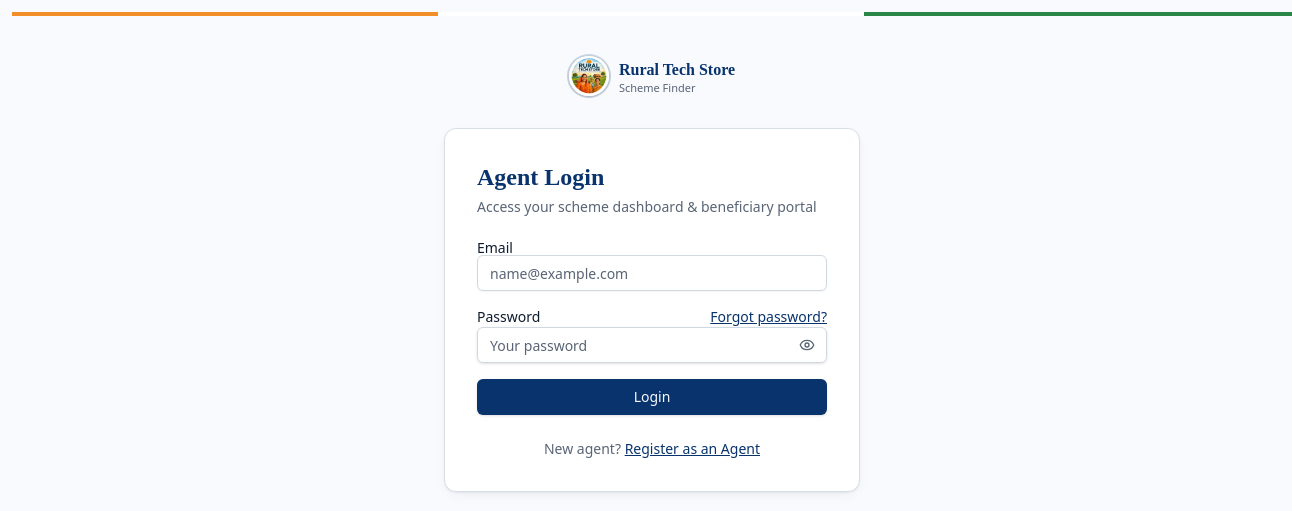
Test case: Authentication Workflow - 3 Roles Independent Verification › Role 1: Main Admin Authentication › Main Admin logs in with email + password, verifies admin role, and is redirected to /admin
Type "admin@schemecompass.gov.in" into the field labelled "Email" at [652, 273], box [477, 255, 827, 291]
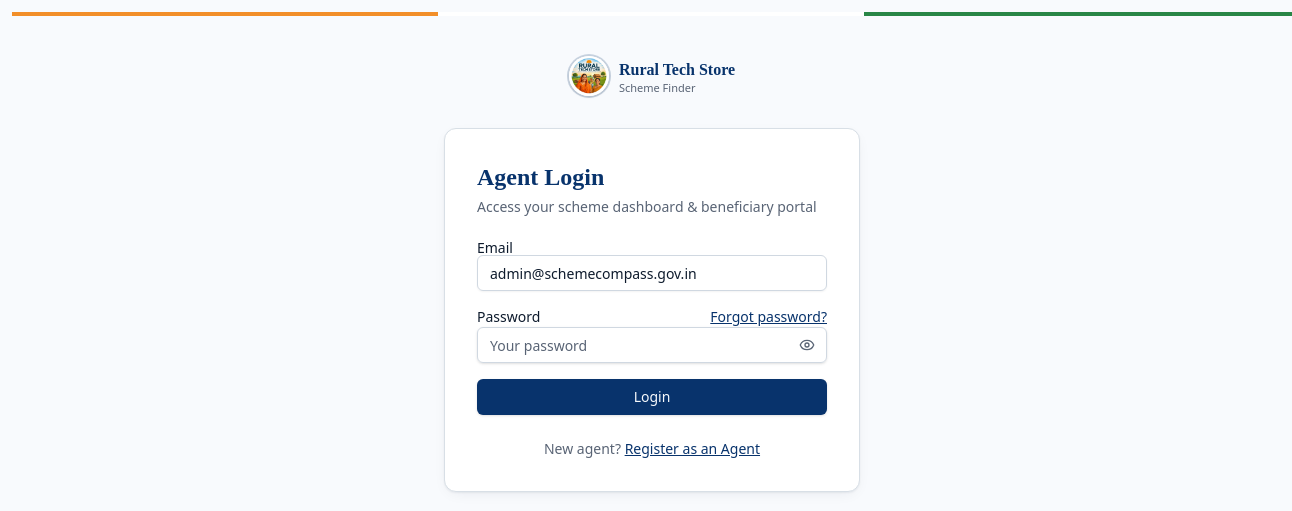
Type "AdminSecret#2026" into the password field labelled "Password" at [652, 345], box [477, 327, 827, 363]
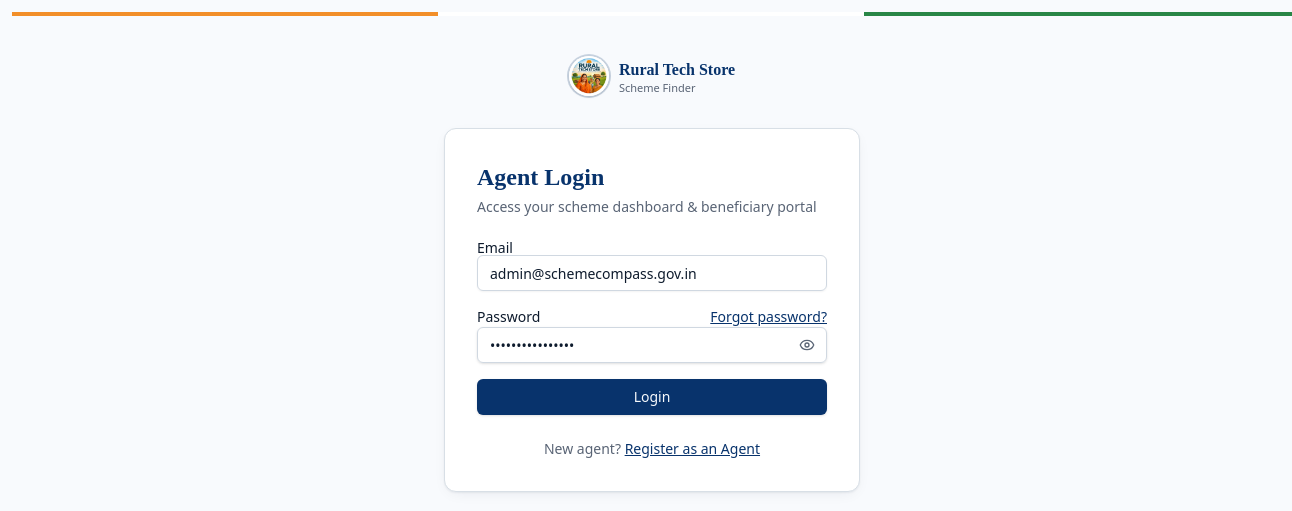
Click the button "Login" at [652, 397], box [477, 379, 827, 415]
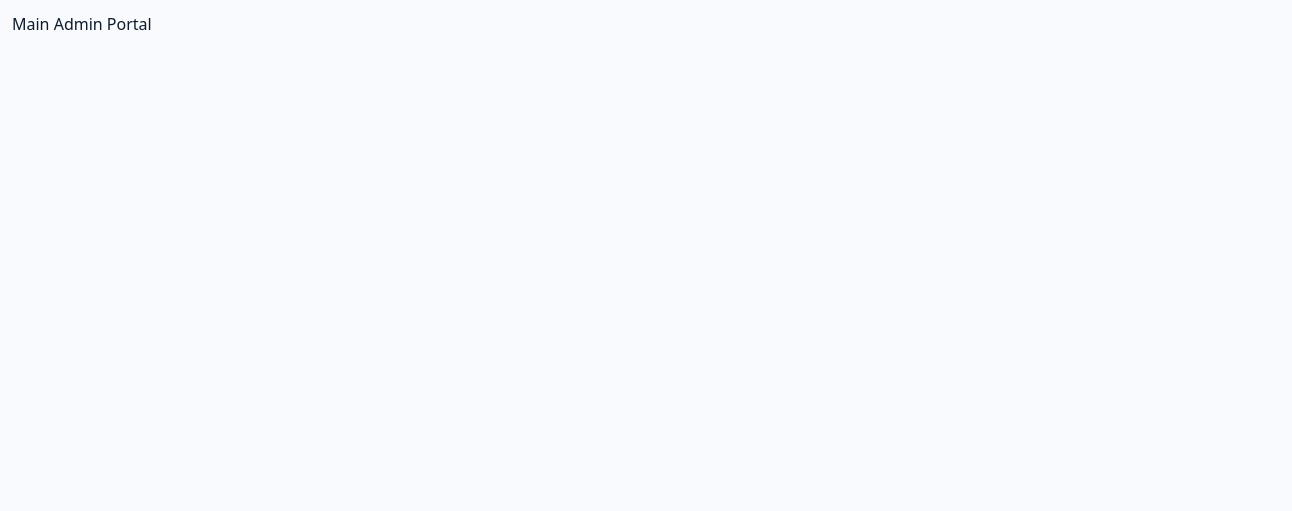
Check: the text "Main Admin Portal" is shown, box [12, 13, 152, 35]
